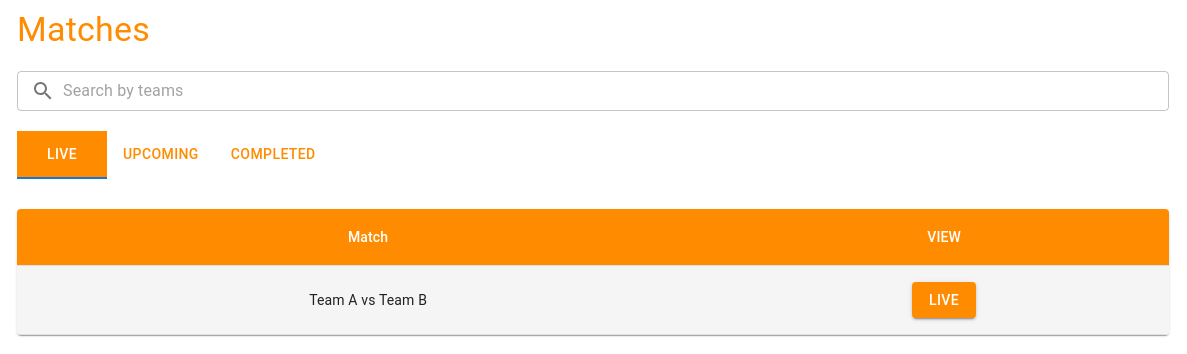
Test: MatchesPage Component › switches tabs and displays correct data
expect the text "Team A vs Team B" is shown: met, box [17, 266, 719, 335]
Check if live matches are displayed
What coordinates should you click on to do the following:
click the tab "UPCOMING"
I would click on:
 (161, 155)
Its box is [107, 131, 215, 179].
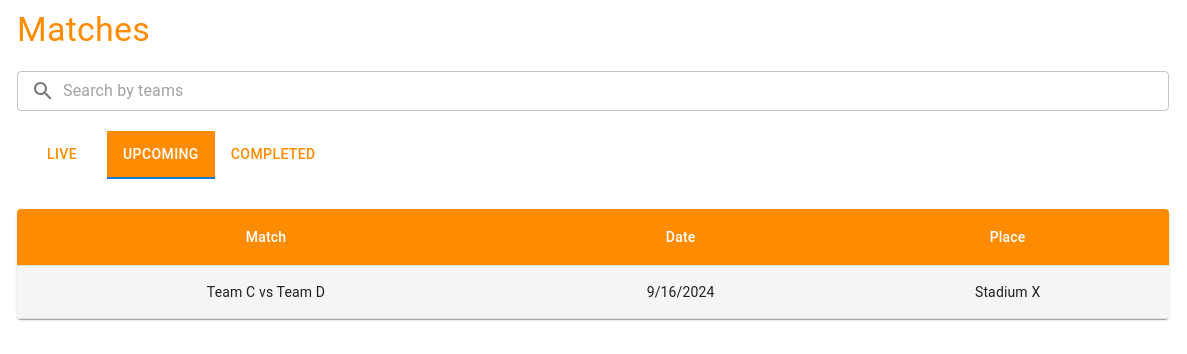
expect the text "Team C vs Team D" is shown: met, box [17, 266, 515, 318]
What coordinates should you click on to do the following:
click the tab "COMPLETED"
I would click on:
 (273, 155)
Its box is [215, 131, 332, 179].
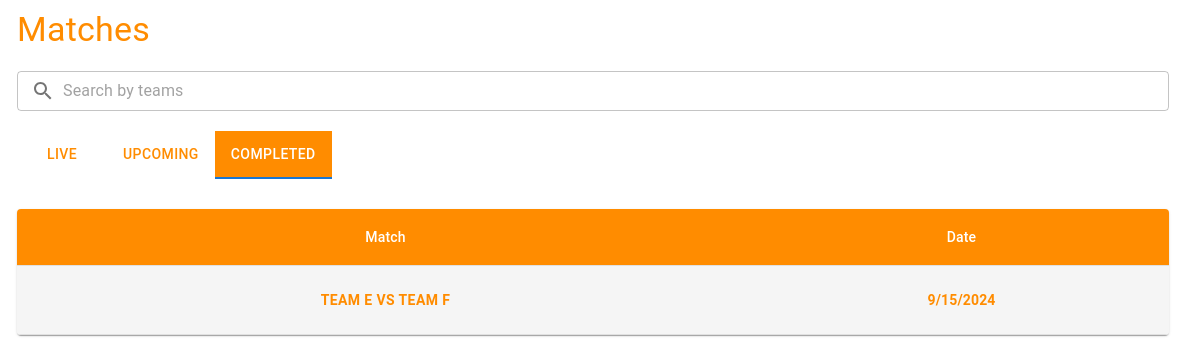
expect the button "Team E vs Team F" is shown: met, box [313, 282, 458, 318]
